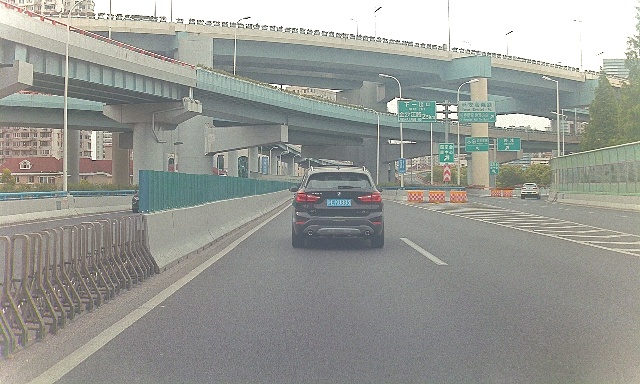car: (288, 165, 384, 248), (521, 183, 541, 199)
